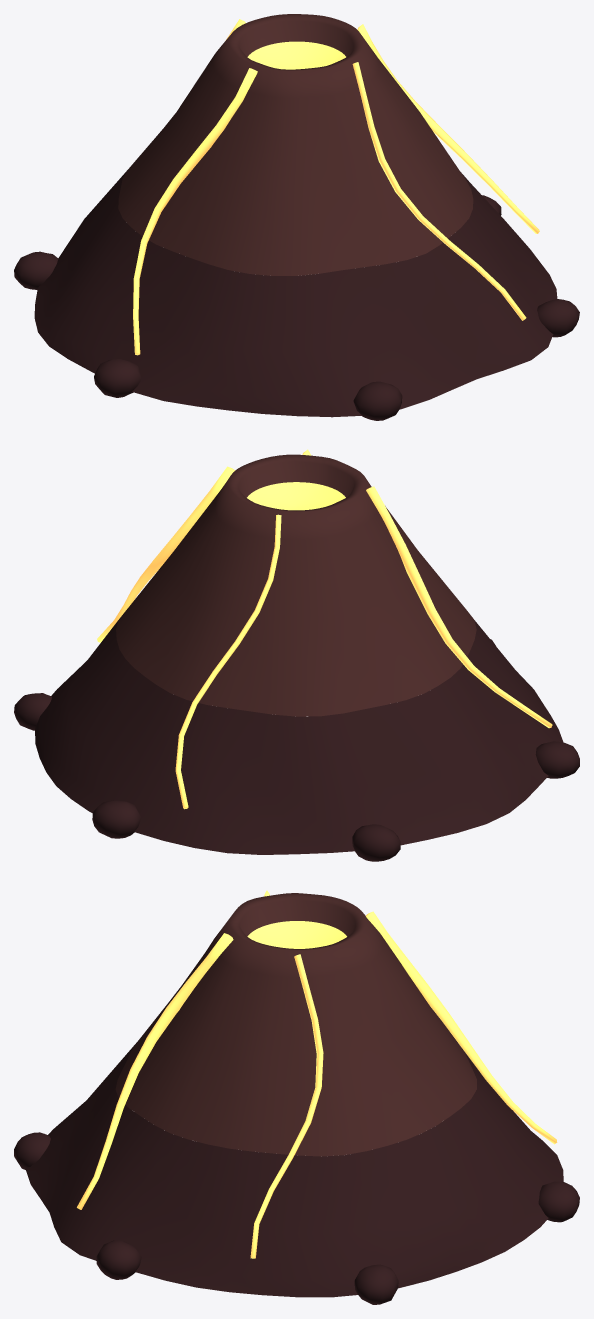
File: volcano.glb
3 renders of one model, top to bottom at view 1: azimuth 30°, elevation 25°; view 2: azimuth 150°, elevation 25°; view 3: azimuth 270°, elevation 25°, orthographic.
Parts seen in each view (by area): view 1: volcano:mesh; view 2: volcano:mesh; view 3: volcano:mesh.
Boxes of the visible parts, x1,y1,x2,y2 form: volcano:mesh: (14, 14, 579, 420); volcano:mesh: (14, 449, 579, 861); volcano:mesh: (14, 890, 579, 1304).
Bounding box in the file's own units: 9.63 × 5.21 × 9.77.
